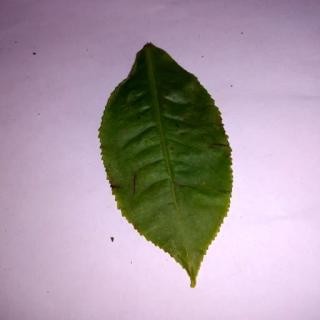Bird Eye Spot: (101, 42, 235, 290)
